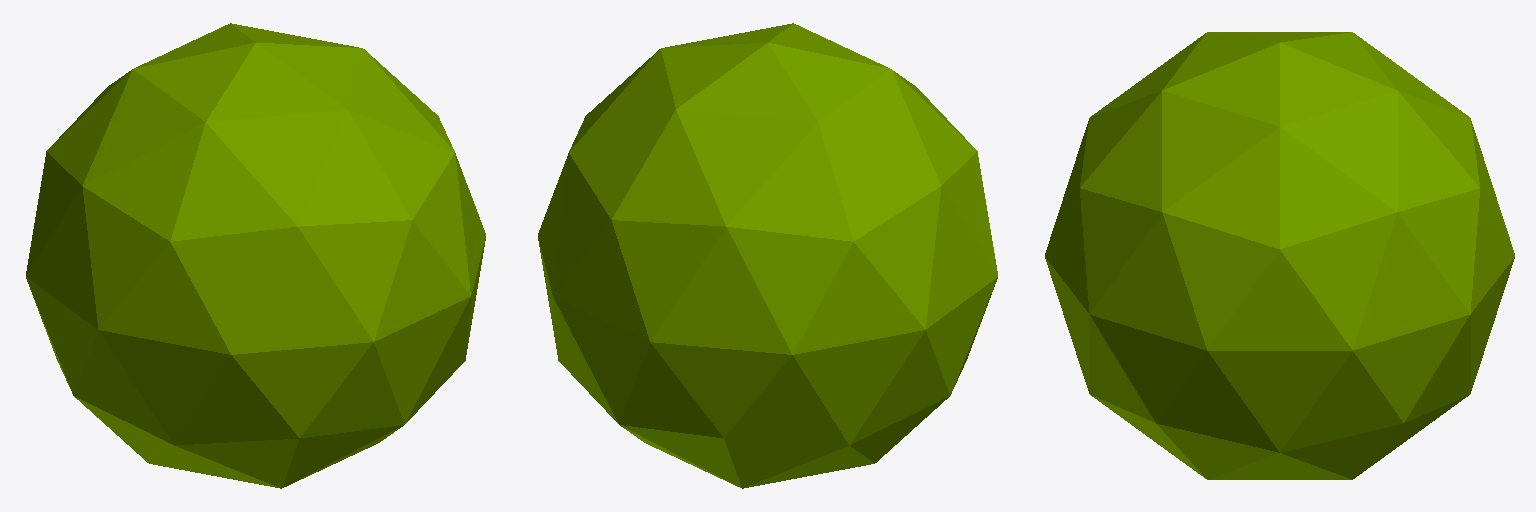
File: light.obj
The picture shows the model from 3 angles: view 1: azimuth 30°, elevation 25°; view 2: azimuth 150°, elevation 25°; view 3: azimuth 270°, elevation 25°; orthographic projection.
Parts seen in each view (by area): view 1: Icosphere; view 2: Icosphere; view 3: Icosphere.
Boxes of the visible parts, x1=… form: Icosphere: x1=26, y1=23, x2=485, y2=488; Icosphere: x1=538, y1=23, x2=997, y2=488; Icosphere: x1=1045, y1=32, x2=1514, y2=479.
Size of the model in its own units: 0.3804 by 0.4 by 0.4.